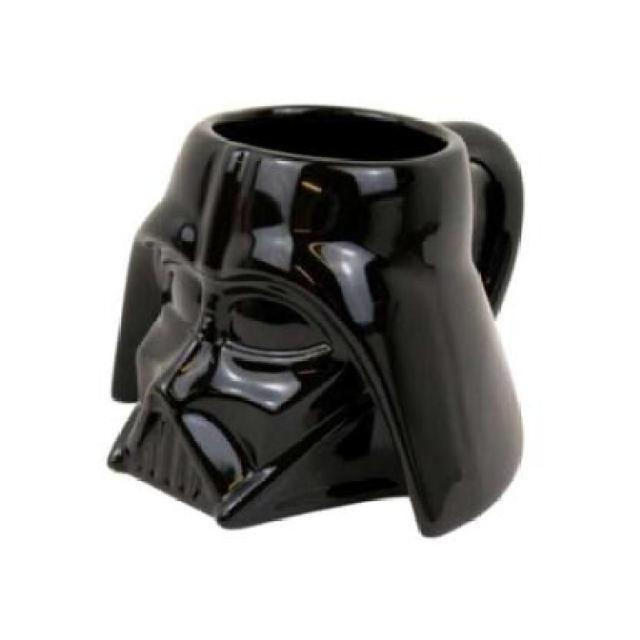taza: (106, 104, 524, 540)
